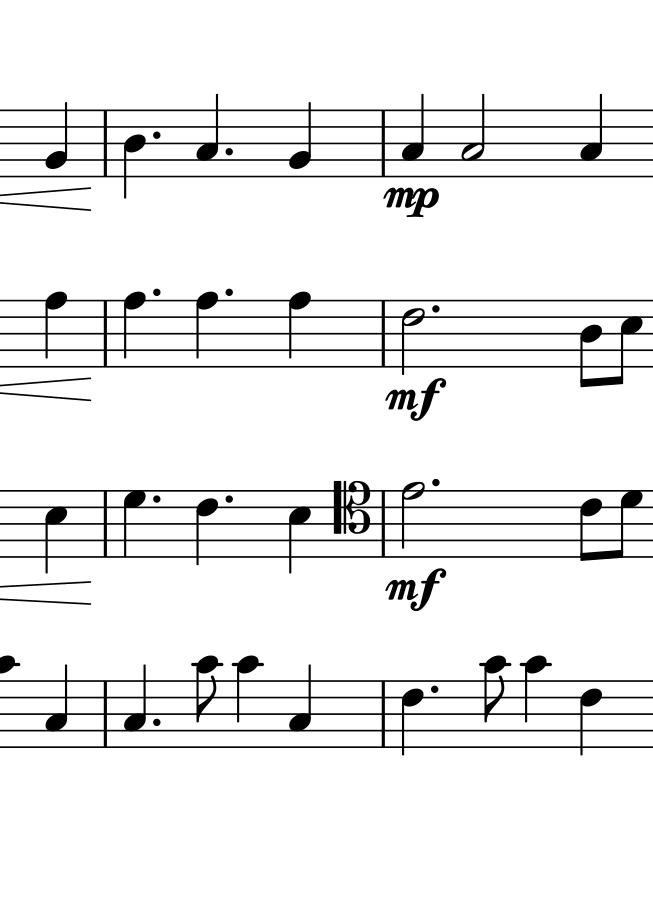2_3: (460, 93, 485, 177)
2_6: (400, 298, 426, 376)
2_8: (401, 479, 428, 559)
4_10: (231, 655, 264, 751), (522, 654, 552, 749)
4_2: (288, 101, 313, 179), (44, 102, 68, 179)
4_3: (579, 94, 605, 180), (288, 662, 313, 750), (123, 663, 148, 749), (400, 93, 425, 179), (45, 663, 69, 750), (196, 94, 219, 178)
4_4: (122, 108, 148, 199)
4_5: (287, 489, 313, 574), (44, 489, 68, 577)
4_6: (194, 489, 220, 568), (578, 678, 603, 758), (400, 678, 424, 758)
4_7: (122, 489, 148, 561)
4_8: (43, 290, 69, 370), (195, 291, 219, 370), (288, 290, 312, 369), (122, 291, 146, 368)
8_10: (192, 653, 223, 750), (483, 655, 509, 749)
8_4: (579, 298, 604, 389)
8_5: (612, 298, 644, 387)
8_6: (578, 488, 603, 564)
8_7: (615, 490, 645, 559)
Single_barline: (96, 109, 114, 177), (97, 490, 115, 556), (97, 300, 115, 366), (375, 300, 392, 367), (97, 681, 114, 746), (375, 681, 392, 746), (375, 110, 391, 178), (377, 491, 391, 557)
Tensor_Cclef: (332, 479, 371, 559)
dot: (428, 301, 444, 318), (221, 491, 236, 507), (222, 143, 235, 159), (148, 287, 163, 299), (150, 491, 162, 506), (222, 286, 235, 299), (430, 477, 442, 490), (151, 128, 162, 142), (428, 682, 439, 696), (151, 715, 161, 728)
mf: (383, 377, 448, 424), (386, 567, 447, 612)
mp: (383, 185, 437, 220)
